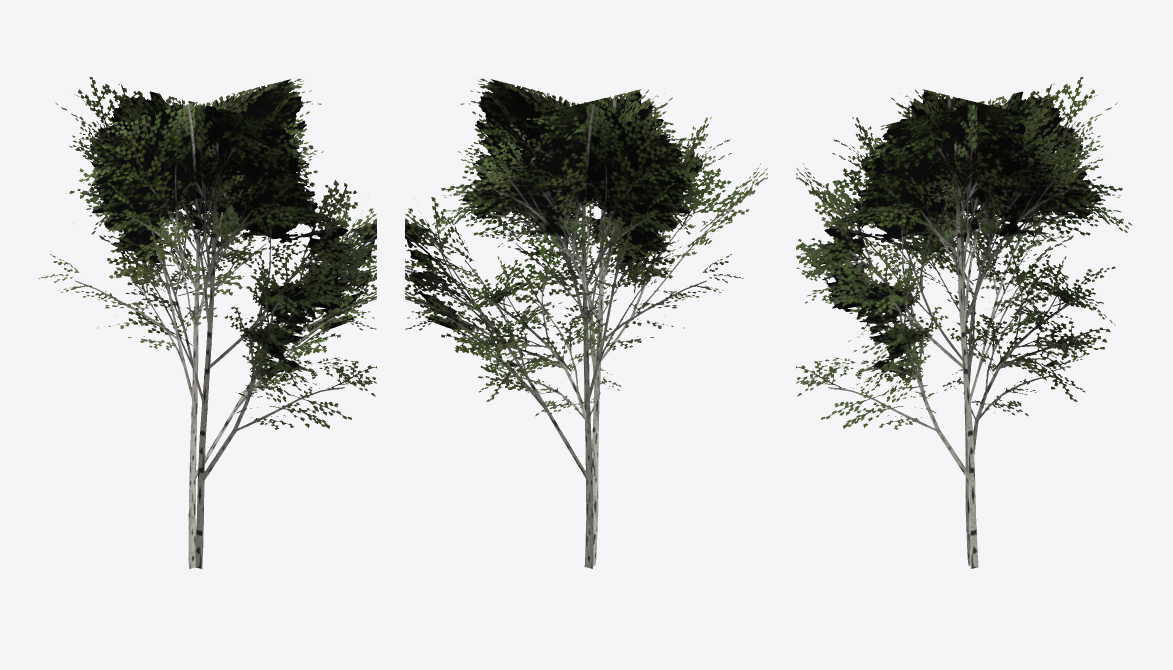
The model's file is briza_mlada_daleko.glb.
3 renders of one model, left to right at view 1: azimuth 30°, elevation 25°; view 2: azimuth 150°, elevation 25°; view 3: azimuth 270°, elevation 25°, orthographic.
Parts seen in each view (by area): view 1: briza_mlada_daleko; view 2: briza_mlada_daleko; view 3: briza_mlada_daleko.
Part boxes in pixels (box(x1,y1,x2,y2)): briza_mlada_daleko: box(38, 77, 376, 568); briza_mlada_daleko: box(405, 78, 767, 568); briza_mlada_daleko: box(796, 77, 1132, 568).
Bounding box in the file's own units: 5.55 × 6.8 × 4.81.
Materials: 3 (3 with a texture image).
